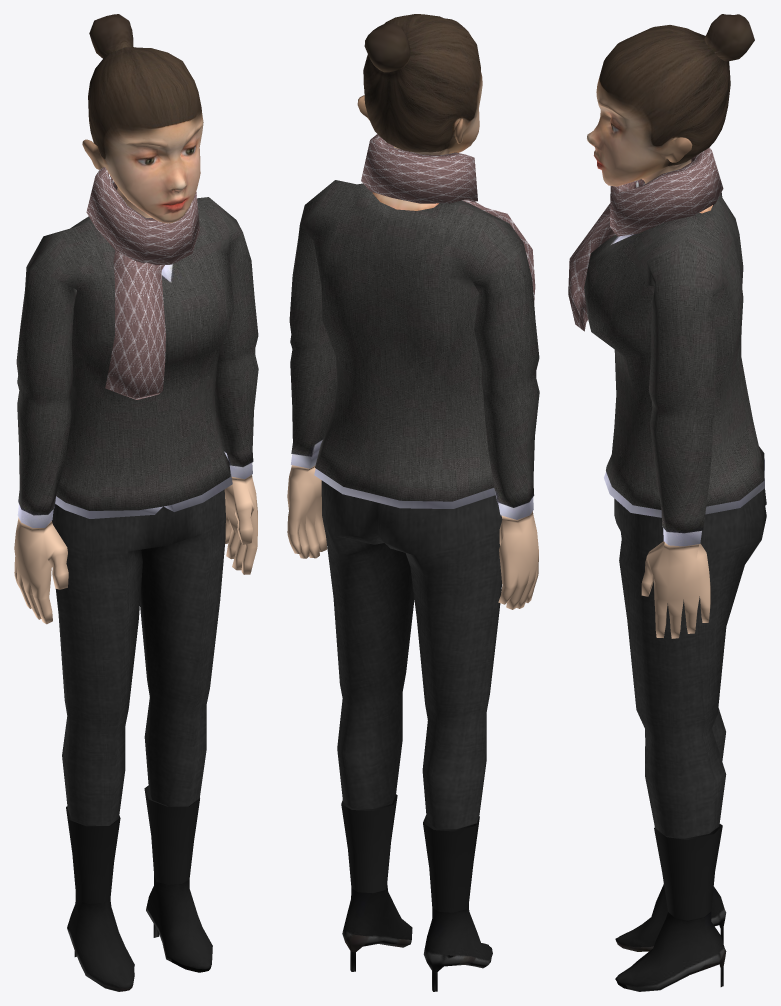
File: NPC6.glb
The picture shows the model from 3 angles, left to right: view 1: azimuth 30°, elevation 25°; view 2: azimuth 150°, elevation 25°; view 3: azimuth 270°, elevation 25°; orthographic projection. The views are drawn at different scales.
Parts seen in each view (by area): view 1: F_lBody_BaseMesh.001mesh.001, M_lBody_BaseMesh.006; view 2: F_lBody_BaseMesh.001mesh.001, M_lBody_BaseMesh.006; view 3: F_lBody_BaseMesh.001mesh.001, M_lBody_BaseMesh.006.
Boxes of the visible parts, left/top/right/bottom form: F_lBody_BaseMesh.001mesh.001: left=14, top=14, right=258, bottom=991; M_lBody_BaseMesh.006: left=86, top=167, right=199, bottom=399; F_lBody_BaseMesh.001mesh.001: left=287, top=14, right=539, bottom=991; M_lBody_BaseMesh.006: left=361, top=134, right=535, bottom=302; F_lBody_BaseMesh.001mesh.001: left=584, top=14, right=766, bottom=991; M_lBody_BaseMesh.006: left=568, top=147, right=723, bottom=331.
Size of what is drawn, in the model's own units: 0.4791 by 1.83 by 0.3461.
3 materials, 3 textured.
